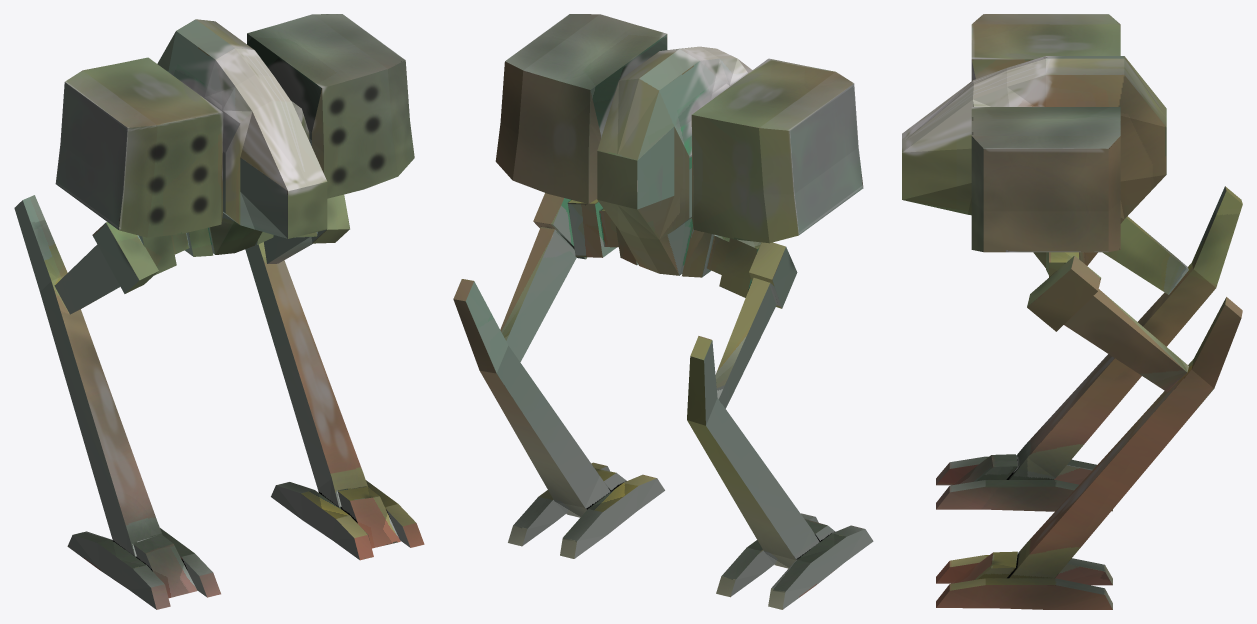
The model's file is mech0.dae.
The picture shows the model from 3 angles, left to right: view 1: azimuth 30°, elevation 25°; view 2: azimuth 150°, elevation 25°; view 3: azimuth 270°, elevation 25°; orthographic projection. The views are drawn at different scales.
Parts seen in each view (by area): view 1: Cube; view 2: Cube; view 3: Cube.
Part boxes in pixels (bbox=[...]): Cube: bbox=[14, 14, 424, 609]; Cube: bbox=[453, 14, 873, 609]; Cube: bbox=[902, 14, 1242, 609].
Bounding box in the file's own units: 2.1 × 2.11 × 3.33.
Materials: 1 (1 with a texture image).
